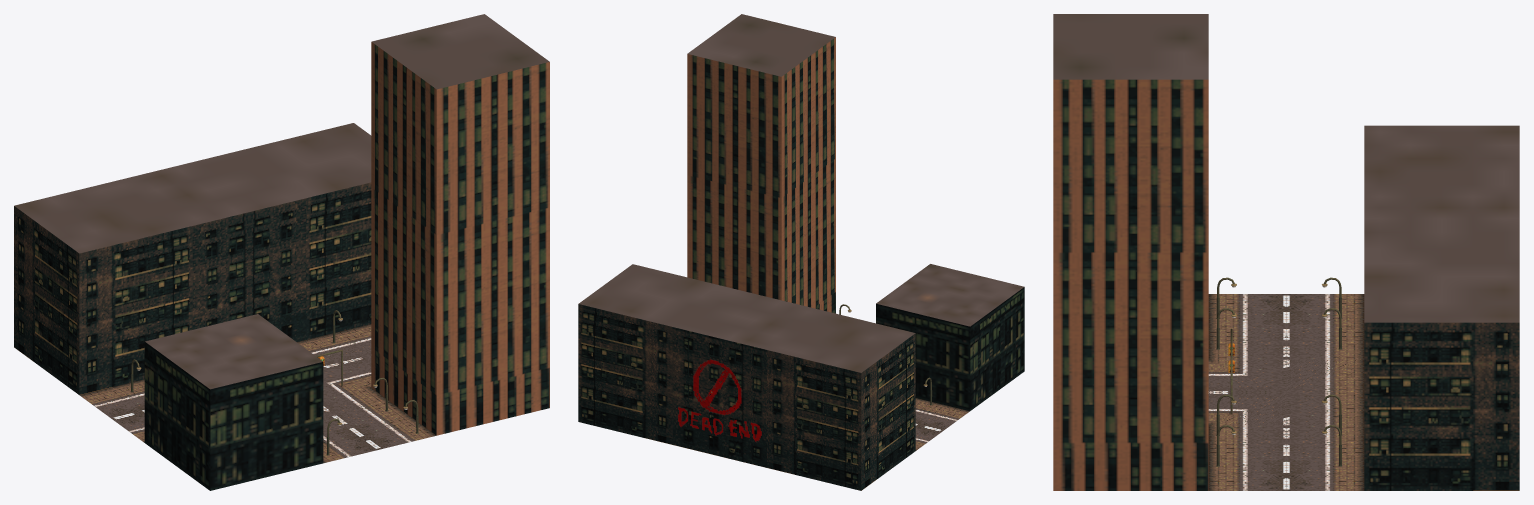
File: City_Block2.FBX
3 renders of one model, left to right at view 1: azimuth 30°, elevation 25°; view 2: azimuth 150°, elevation 25°; view 3: azimuth 270°, elevation 25°, orthographic. The views are drawn at different scales.
Parts seen in each view (by area): view 1: City_Block2; view 2: City_Block2; view 3: City_Block2.
Part boxes in pixels (x1,y1,x2,y2): City_Block2: (14,14,549,490); City_Block2: (578,14,1024,490); City_Block2: (1053,14,1519,490).
Size of the model in its own units: 5000 by 4908 by 5000.
